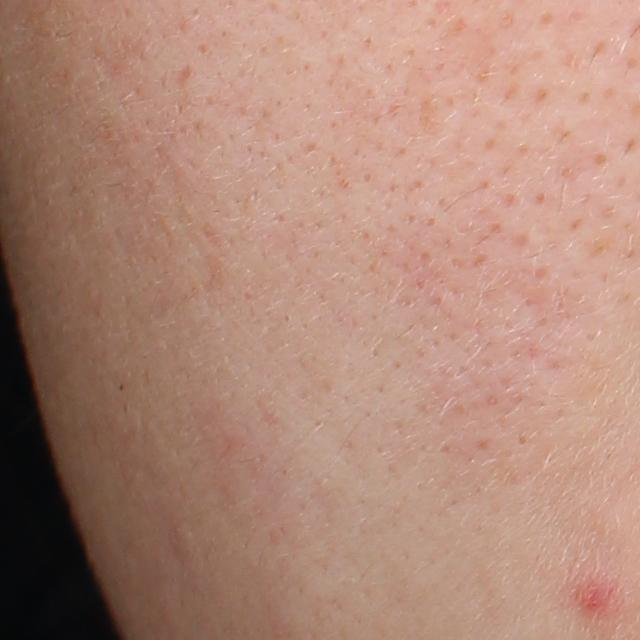atrophic_scar: (173, 63, 194, 90)
papule: (580, 583, 609, 612)
